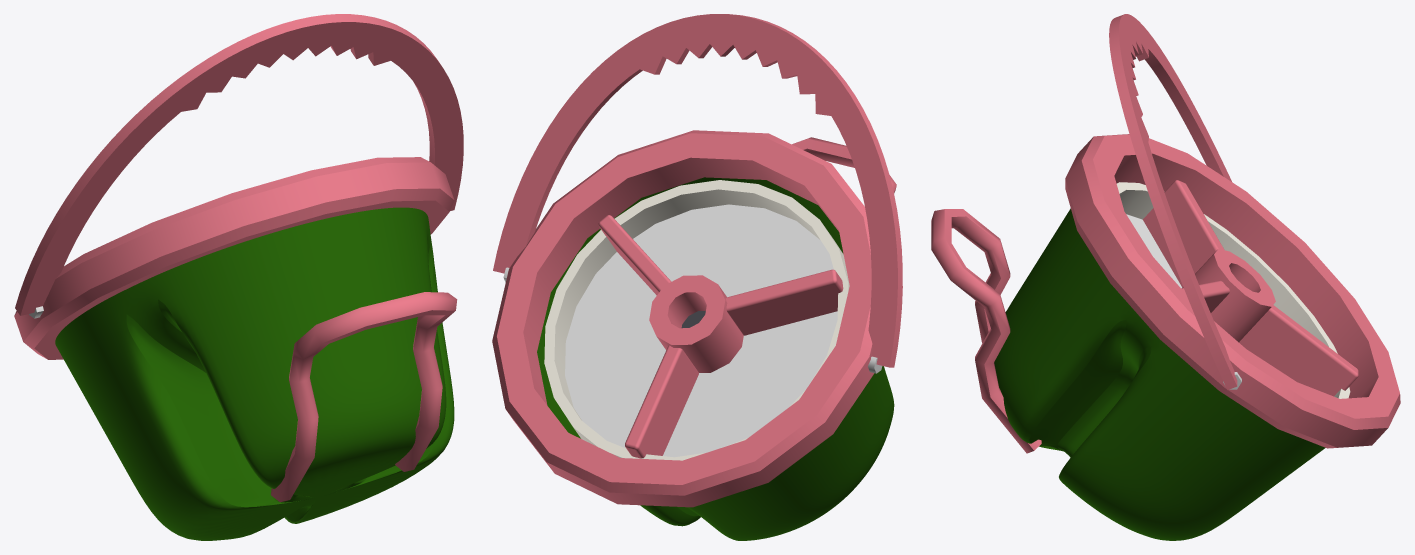
Rendered from W_TriBucket.fbx.
3 views of the same model, side by side, from view 1: azimuth 30°, elevation 25°; view 2: azimuth 150°, elevation 25°; view 3: azimuth 270°, elevation 25° (orthographic). The views are drawn at different scales.
Visible parts, largest first — view 1: TriBucket_Body, TriBucket_Bail; view 2: TriBucket_Body, TriBucket_Bail; view 3: TriBucket_Body, TriBucket_Bail.
Part boxes in pixels (x1,y1,x2,y2): TriBucket_Body: (14, 157, 457, 540); TriBucket_Bail: (15, 14, 463, 315); TriBucket_Body: (492, 130, 896, 540); TriBucket_Bail: (493, 14, 902, 367); TriBucket_Body: (931, 134, 1400, 540); TriBucket_Bail: (1109, 14, 1237, 389).
Size of the model in its own units: 0.77 by 0.9062 by 0.7889.
